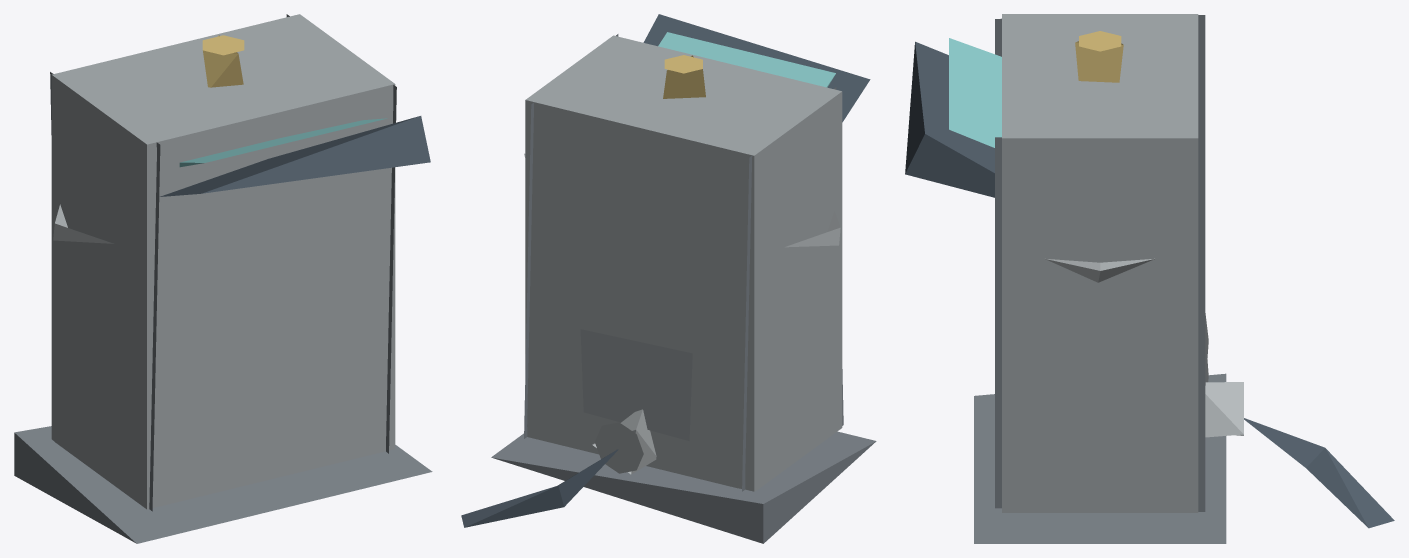
3 views of the same model, side by side, from view 1: azimuth 30°, elevation 25°; view 2: azimuth 150°, elevation 25°; view 3: azimuth 270°, elevation 25° (orthographic). The views are drawn at different scales.
Parts seen in each view (by area): view 1: sea_data_terminal.001; view 2: sea_data_terminal.001; view 3: sea_data_terminal.001.
Part boxes in pixels (<box>): sea_data_terminal.001: <box>14,14,432,543</box>; sea_data_terminal.001: <box>461,14,876,543</box>; sea_data_terminal.001: <box>905,14,1394,543</box>.
Bounding box in the file's own units: 1.16 × 1.42 × 1.4.
